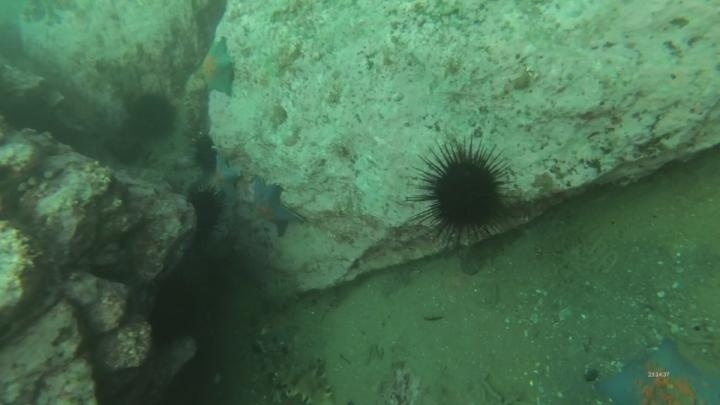echinus: (411, 141, 513, 245), (145, 274, 204, 345), (124, 89, 180, 142), (185, 186, 227, 234), (188, 132, 220, 176)
holothurian: (273, 357, 337, 404)
starfish: (594, 336, 719, 404), (244, 176, 302, 240), (194, 36, 238, 98), (205, 154, 244, 201)
